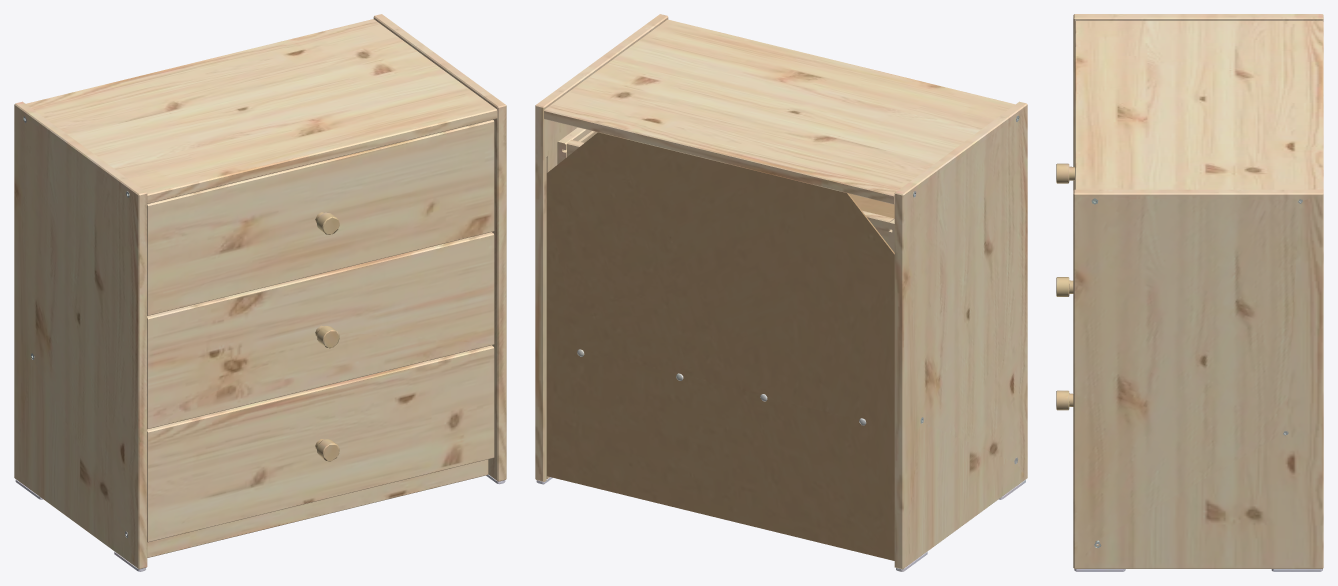
File: 20609860-mini.glb
The picture shows the model from 3 angles, left to right: view 1: azimuth 30°, elevation 25°; view 2: azimuth 150°, elevation 25°; view 3: azimuth 270°, elevation 25°; orthographic projection.
Visible parts, largest first — view 1: ASY_ART_20609860_S01_NV01; view 2: ASY_ART_20609860_S01_NV01; view 3: ASY_ART_20609860_S01_NV01.
Part boxes in pixels (bbox=[...]): ASY_ART_20609860_S01_NV01: bbox=[14, 14, 506, 571]; ASY_ART_20609860_S01_NV01: bbox=[535, 14, 1027, 571]; ASY_ART_20609860_S01_NV01: bbox=[1056, 14, 1323, 571].
Bounding box in the file's own units: 0.597 × 0.585 × 0.374.
Materials: 1 (1 with a texture image).
